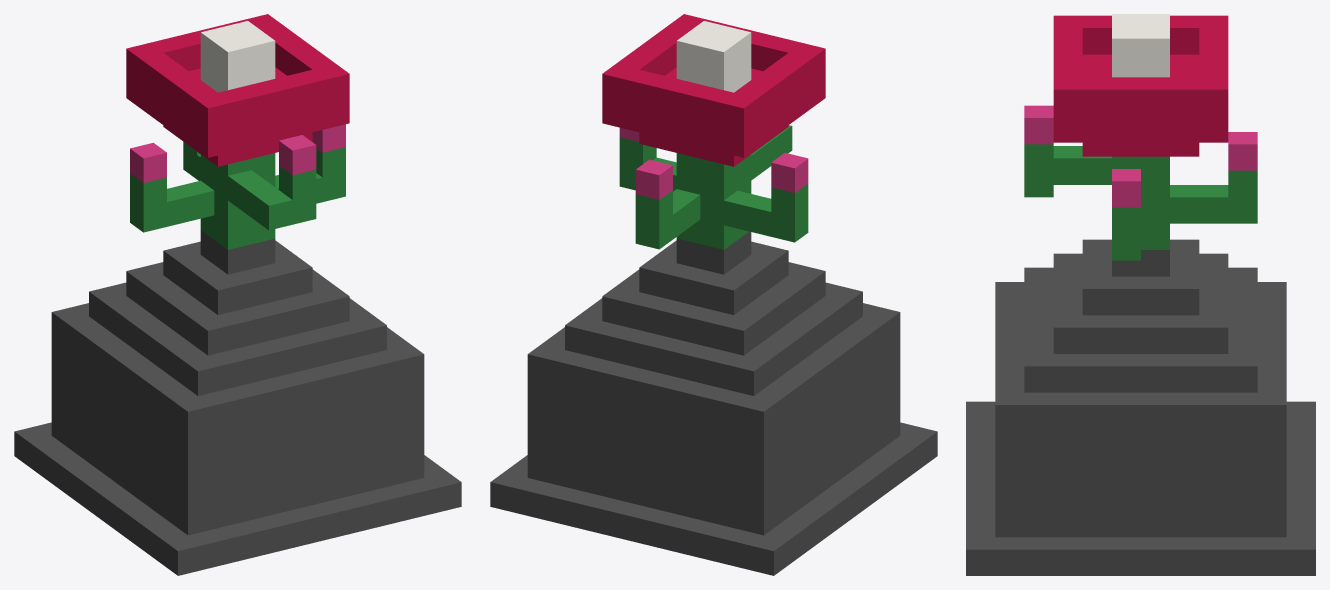
File: rocaFlor.fbx
3 renders of one model, left to right at view 1: azimuth 30°, elevation 25°; view 2: azimuth 150°, elevation 25°; view 3: azimuth 270°, elevation 25°, orthographic. The views are drawn at different scales.
Parts seen in each view (by area): view 1: Roca_Flor; view 2: Roca_Flor; view 3: Roca_Flor.
Boxes of the visible parts, x1,y1,x2,y2 form: Roca_Flor: (14, 14, 461, 575); Roca_Flor: (490, 14, 937, 575); Roca_Flor: (966, 14, 1315, 575).
Bounding box in the file's own units: 2.4 × 3.6 × 2.4.
1 material, 1 textured.
